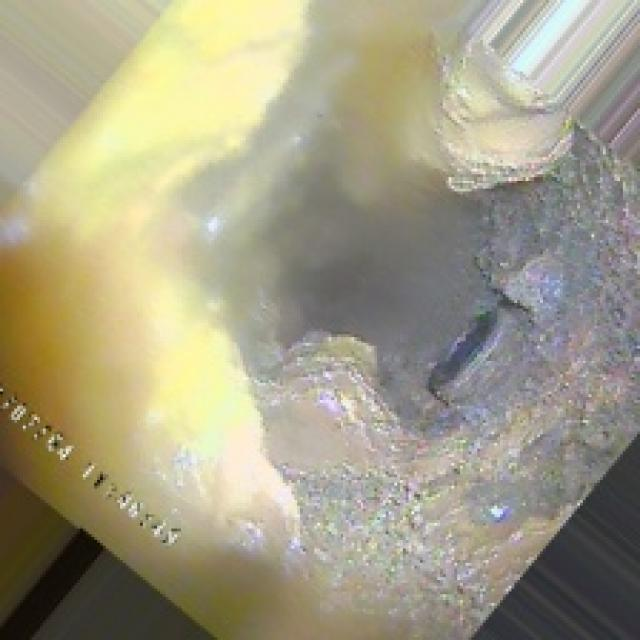encrustation: (277, 106, 612, 491)
ferrule: (417, 303, 520, 408)
